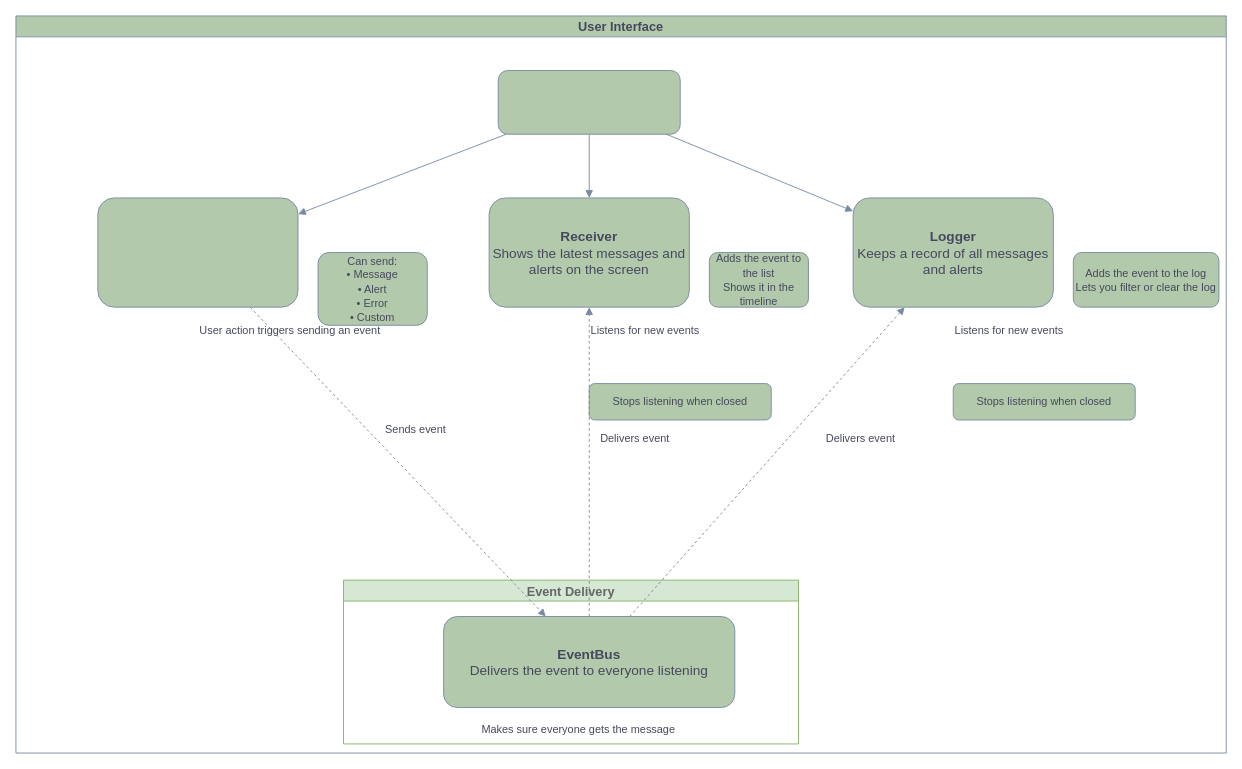
Some shapes in this 1242 by 769 pixel diagram are drawn without their labels. The centre of each missing label's shape, as x and y in pixels:
App (Main Page) Shows all parts of the demo: pixel 588 102
Sender User types a message or picks an alert, then clicks send: pixel 197 252
